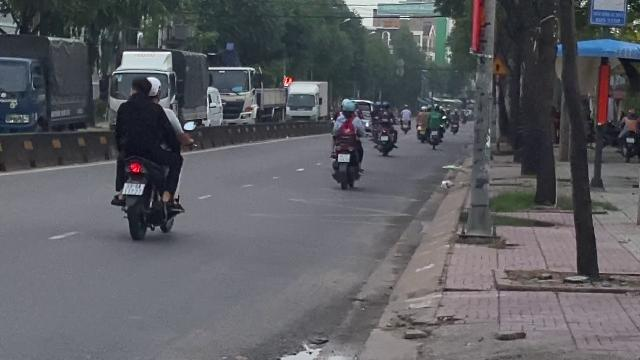helmet: (145, 75, 161, 100)
licenseplate: (122, 182, 144, 194)
motorcyclist: (106, 74, 188, 241)
nohelmet: (129, 76, 151, 99)
